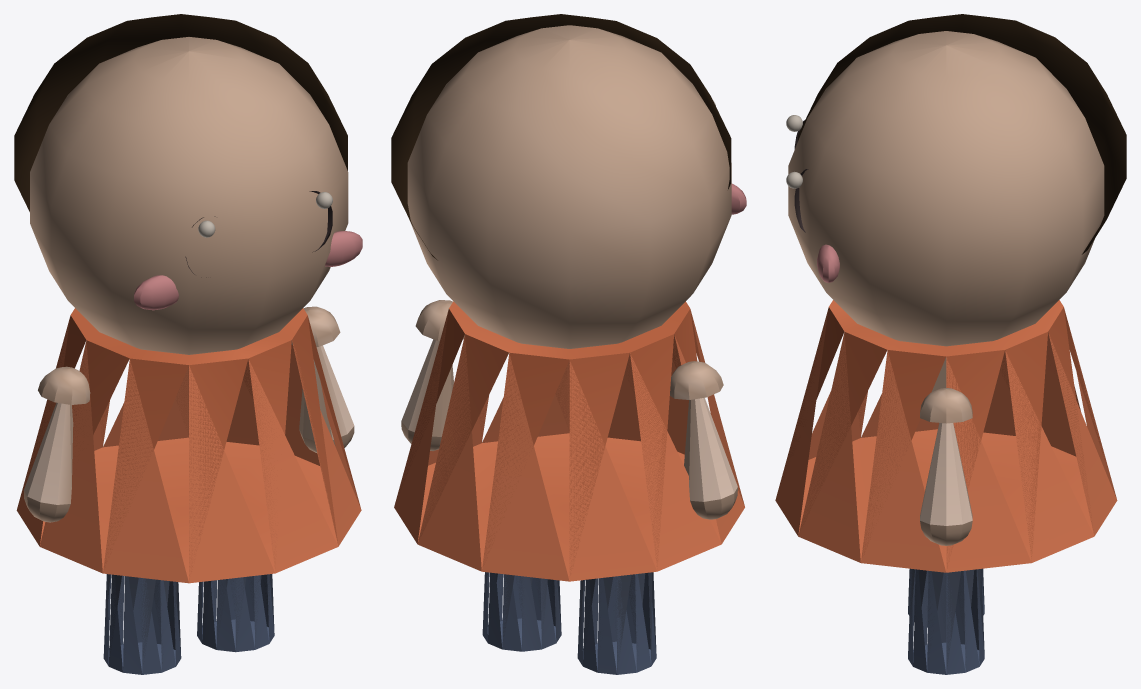
The model's file is p02d3dbe5.glb.
3 views of the same model, side by side, from view 1: azimuth 30°, elevation 25°; view 2: azimuth 150°, elevation 25°; view 3: azimuth 270°, elevation 25° (orthographic). The views are drawn at different scales.
Visible parts, largest first — view 1: pet_p02d3dbe5; view 2: pet_p02d3dbe5; view 3: pet_p02d3dbe5.
Part boxes in pixels (bbox=[...]): pet_p02d3dbe5: bbox=[14, 14, 362, 674]; pet_p02d3dbe5: bbox=[391, 14, 746, 674]; pet_p02d3dbe5: bbox=[775, 14, 1126, 674].
Bounding box in the file's own units: 0.3464 × 0.625 × 0.3287.
